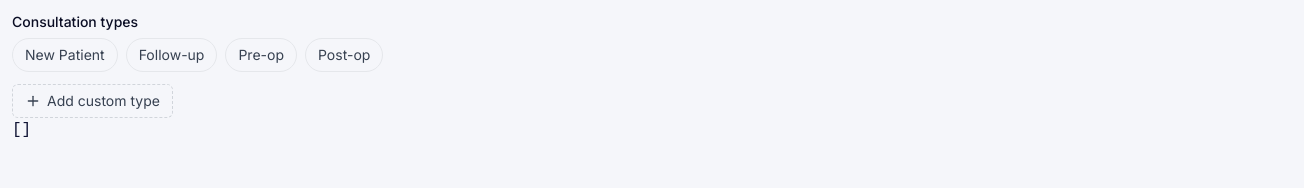
Test: ConsultationTypesEditor — validation gates › blocks Add for a raw SSN
The image size is (1304, 188).
Click the button "Add custom type" at (92, 101), box [12, 84, 173, 118]
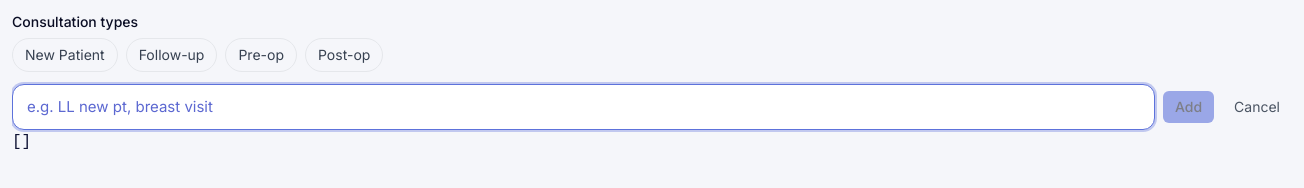
Type "123456789" into the field named "custom consultation type name" at (583, 107), box [12, 84, 1155, 130]
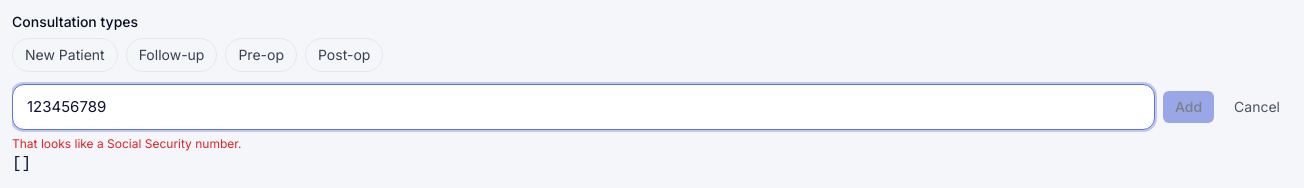
Expected: the button "Add" is disabled, [1163, 91, 1214, 123]
Expected: the text "That looks like a Social Security number." is shown, [12, 136, 242, 151]
